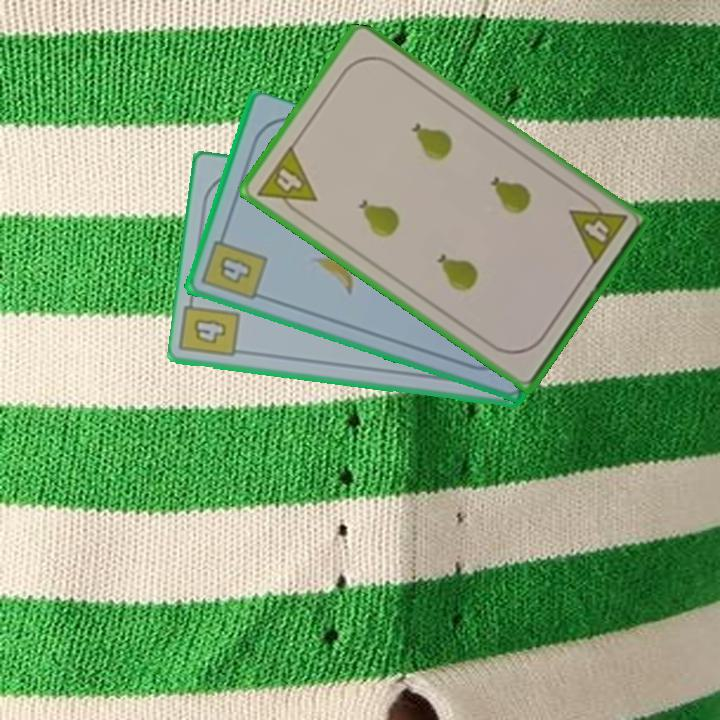4b: (198, 227, 270, 304), (189, 316, 229, 348)
4p: (253, 141, 320, 221), (565, 191, 630, 269)
